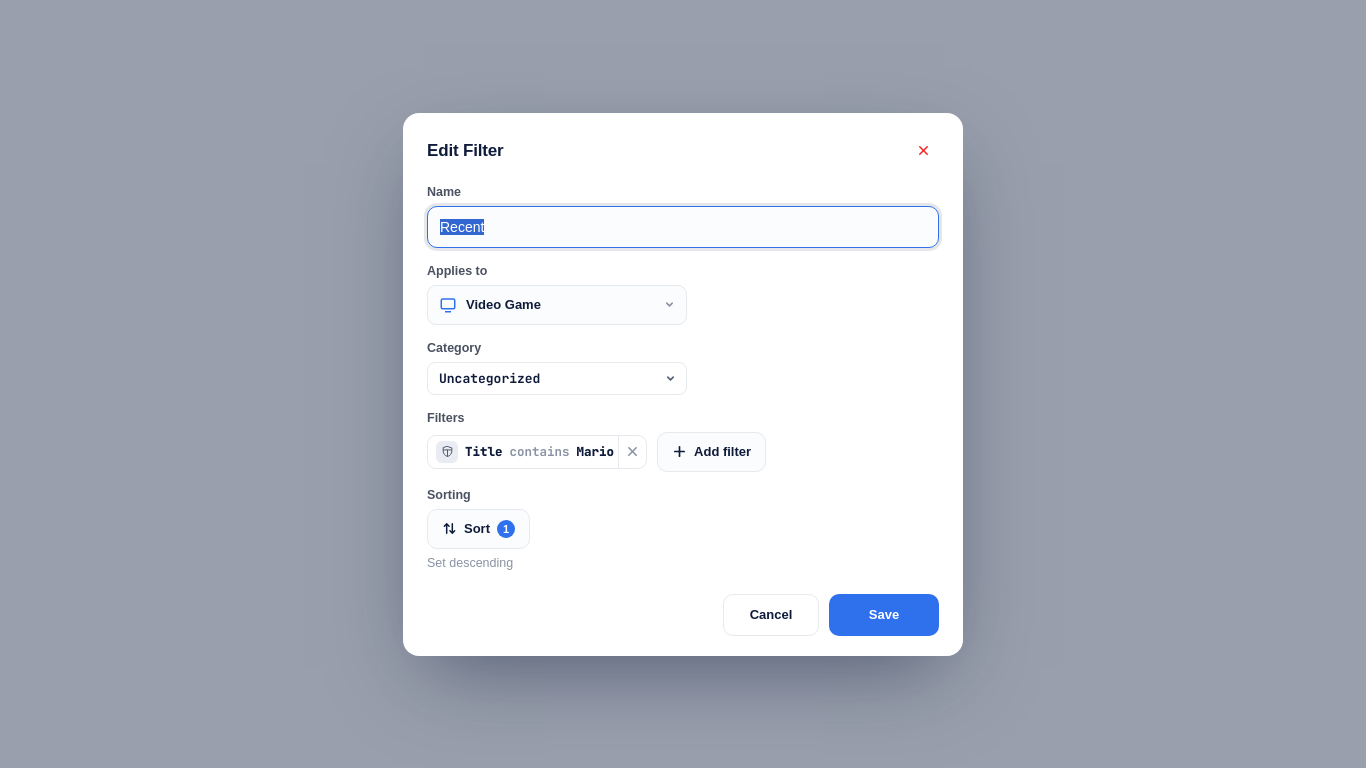
Test case: SavedFilterDialog sorting › clears the sort levels when the target collection changes
This screenshot has width=1366, height=768.
Check: the text "Set descending" is shown, box [427,556,513,570]
Note: Switching entity invalidates levels built against the old field list.
What coordinates should you click on to do the following:
click the button with aria-label "Applies to"
I would click on:
 (503, 304)
Its box is [427,284,687,324].
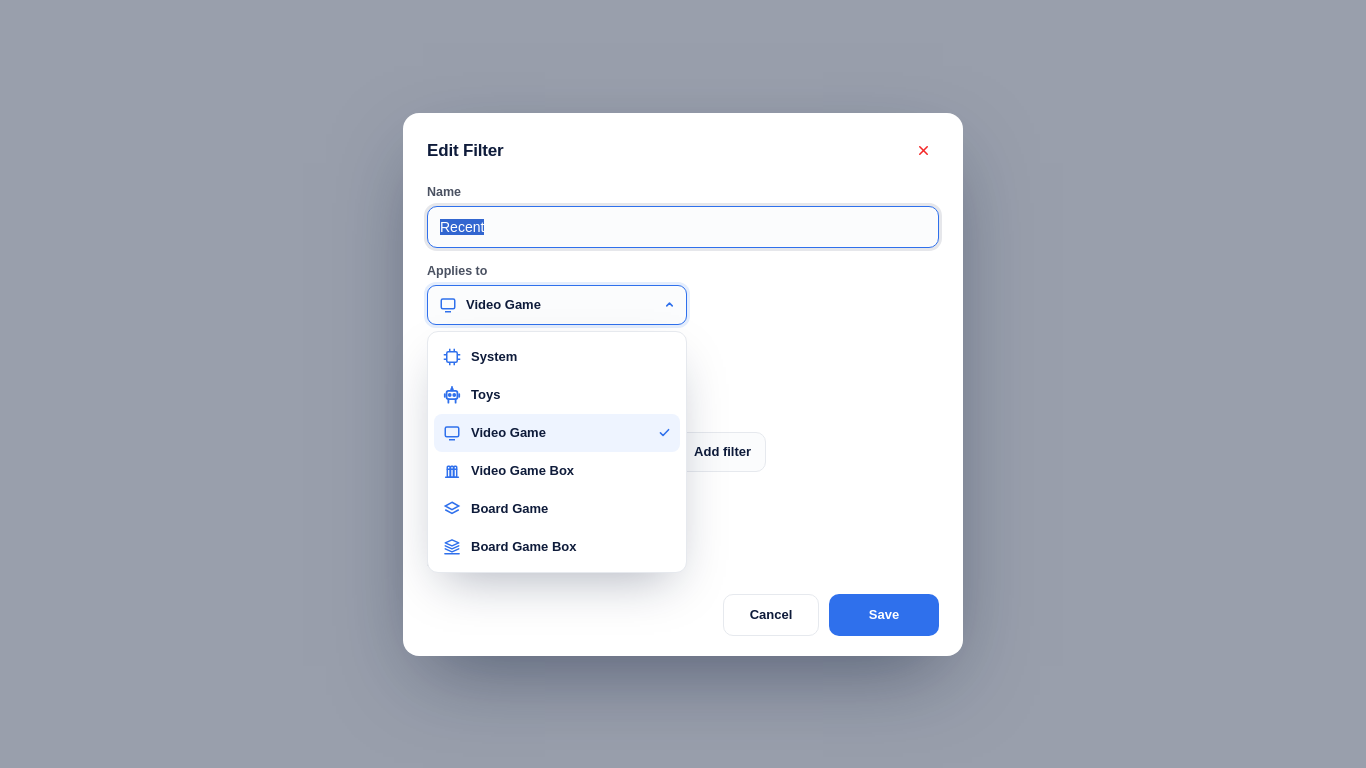
What coordinates should you click on to do the following:
click the option "Toys"
I would click on:
 (557, 394)
Its box is [434,376,680,414].
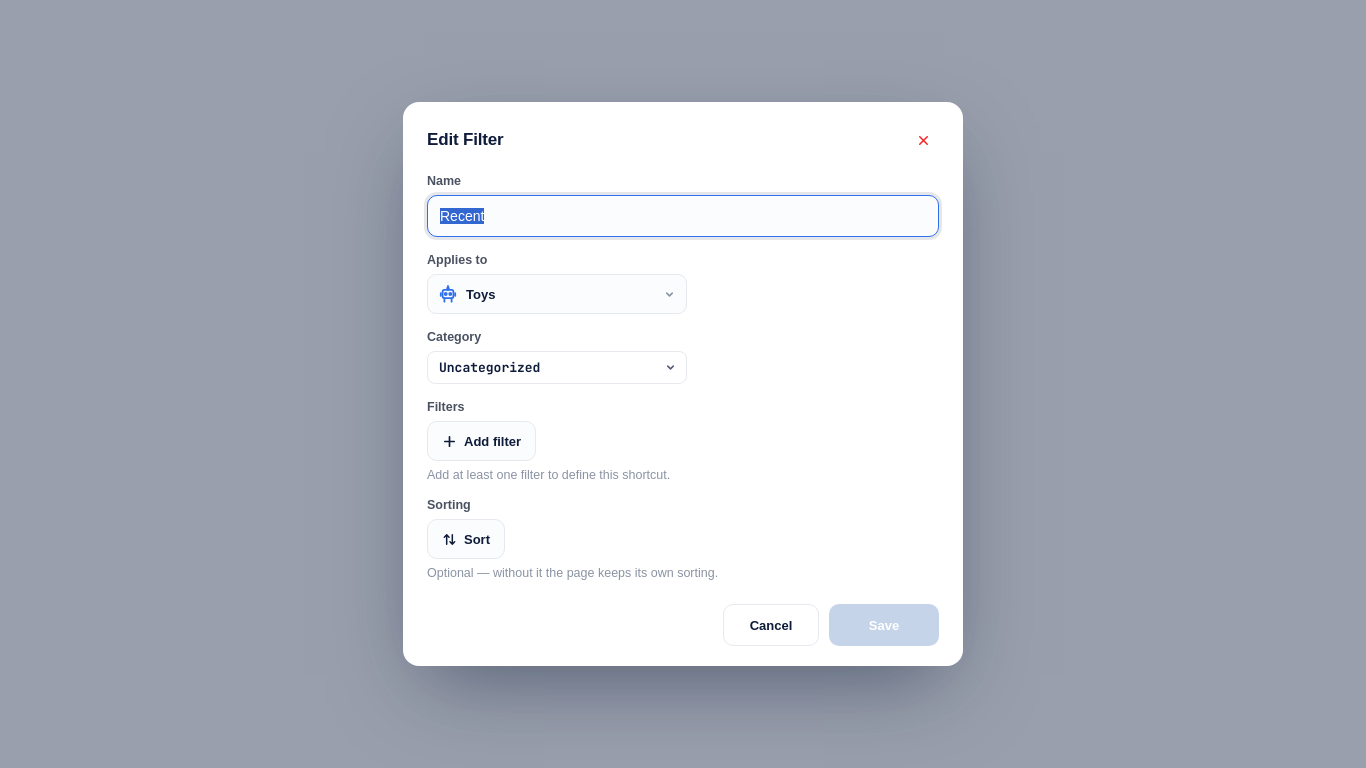
Check: the text "Set descending" is gone
Check: the text "Optional — without it the page keeps its own sorting." is shown, box [427,566,718,580]
